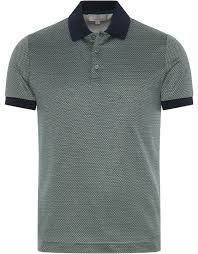C_polo shirt: (2, 2, 198, 243)
